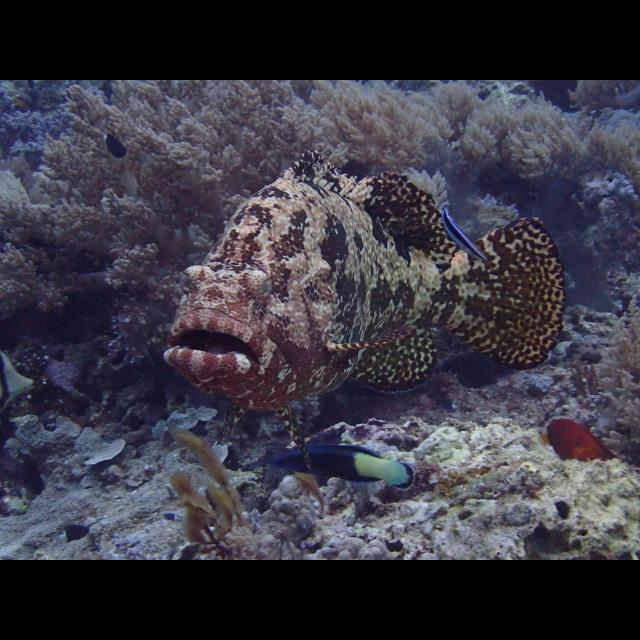Groupers: (158, 148, 566, 410)
